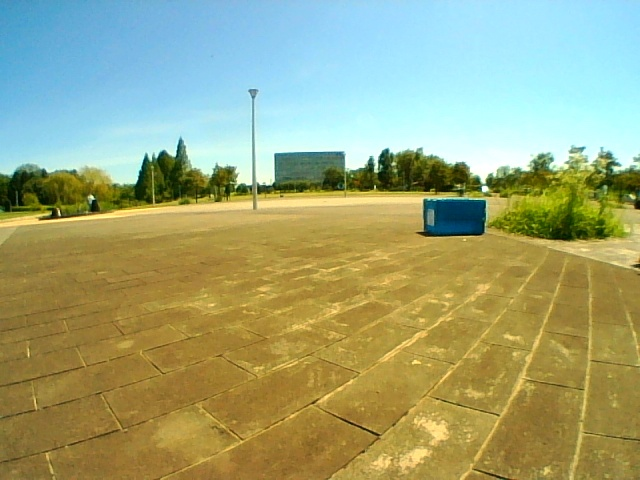blue_box: (424, 200, 485, 236)
tag: (427, 210, 433, 225)
